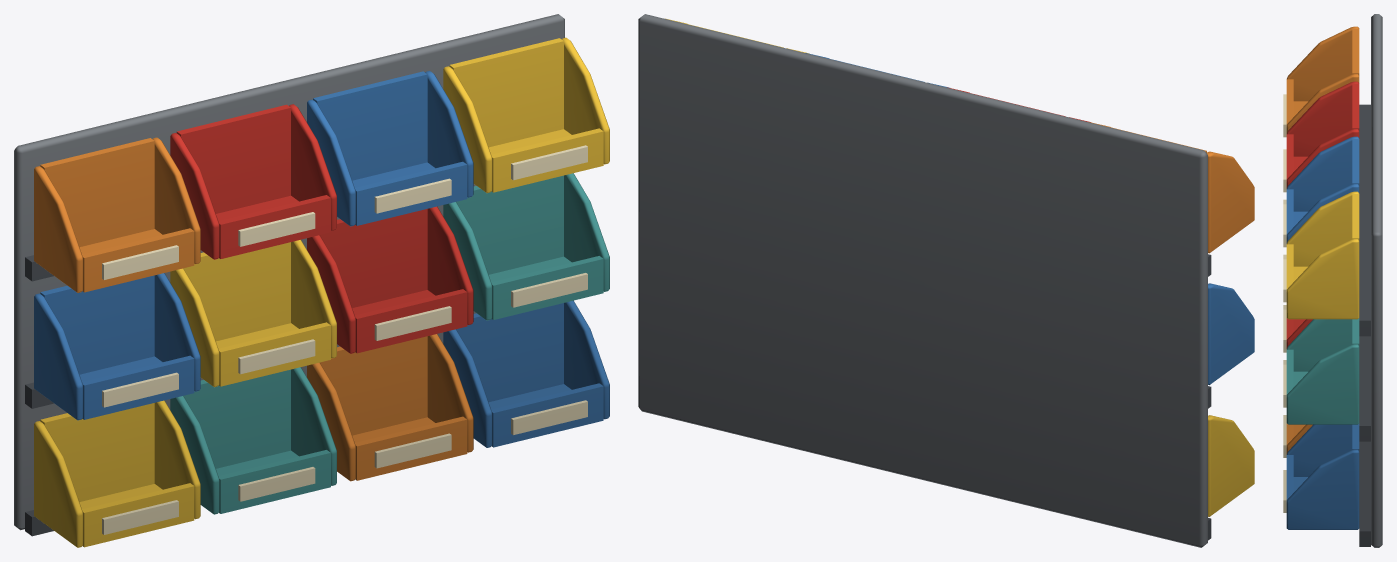
Rendered from SM_BinRack_Wall_01.glb.
3 views of the same model, side by side, from view 1: azimuth 30°, elevation 25°; view 2: azimuth 150°, elevation 25°; view 3: azimuth 270°, elevation 25° (orthographic). The views are drawn at different scales.
Parts seen in each view (by area): view 1: SM_BinRack_Wall_01; view 2: SM_BinRack_Wall_01; view 3: SM_BinRack_Wall_01.
Boxes of the visible parts, box(x1,y1,x2,y2) form: SM_BinRack_Wall_01: box(14, 14, 609, 547); SM_BinRack_Wall_01: box(638, 14, 1254, 547); SM_BinRack_Wall_01: box(1283, 14, 1382, 547).
Bounding box in the file's own units: 0.9 × 0.6 × 0.171.
1 material, 1 textured.
